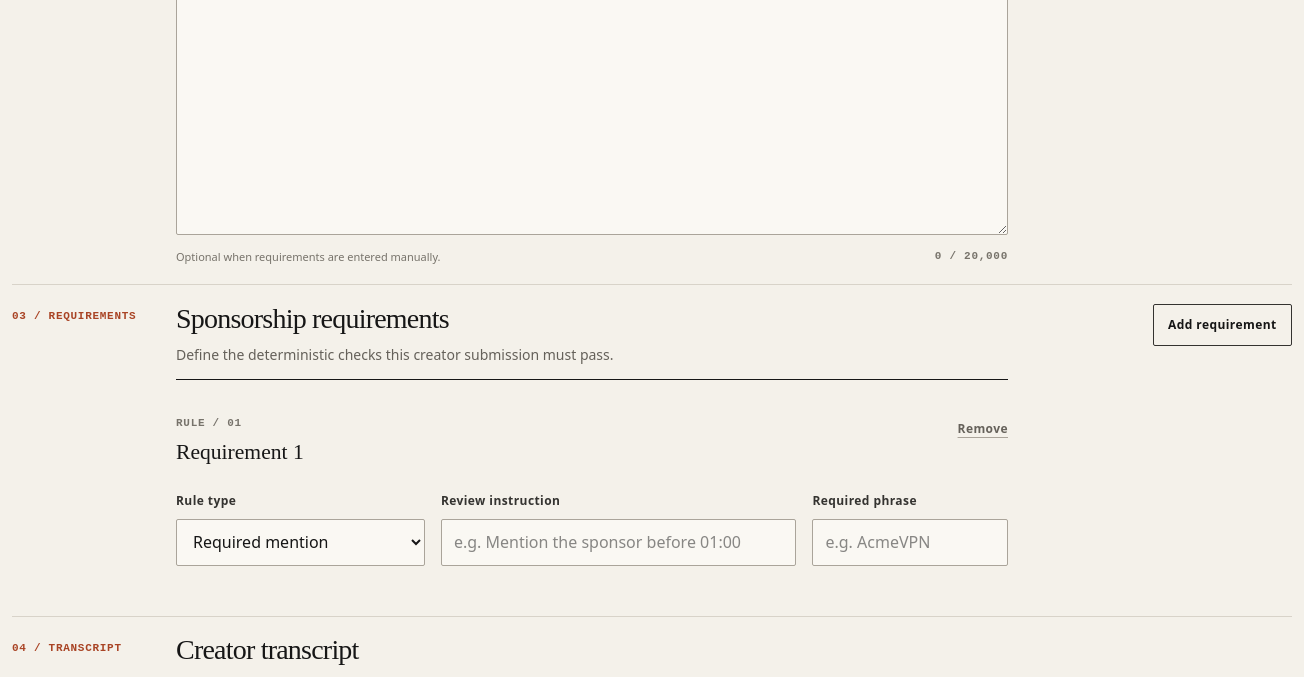
Scenario: requirements workspace › adds requirements
The image size is (1304, 677).
(page scrolled)
Step 1. Click the button "Add requirement" → (1222, 325), box [1153,304,1292,346]
(page scrolled)
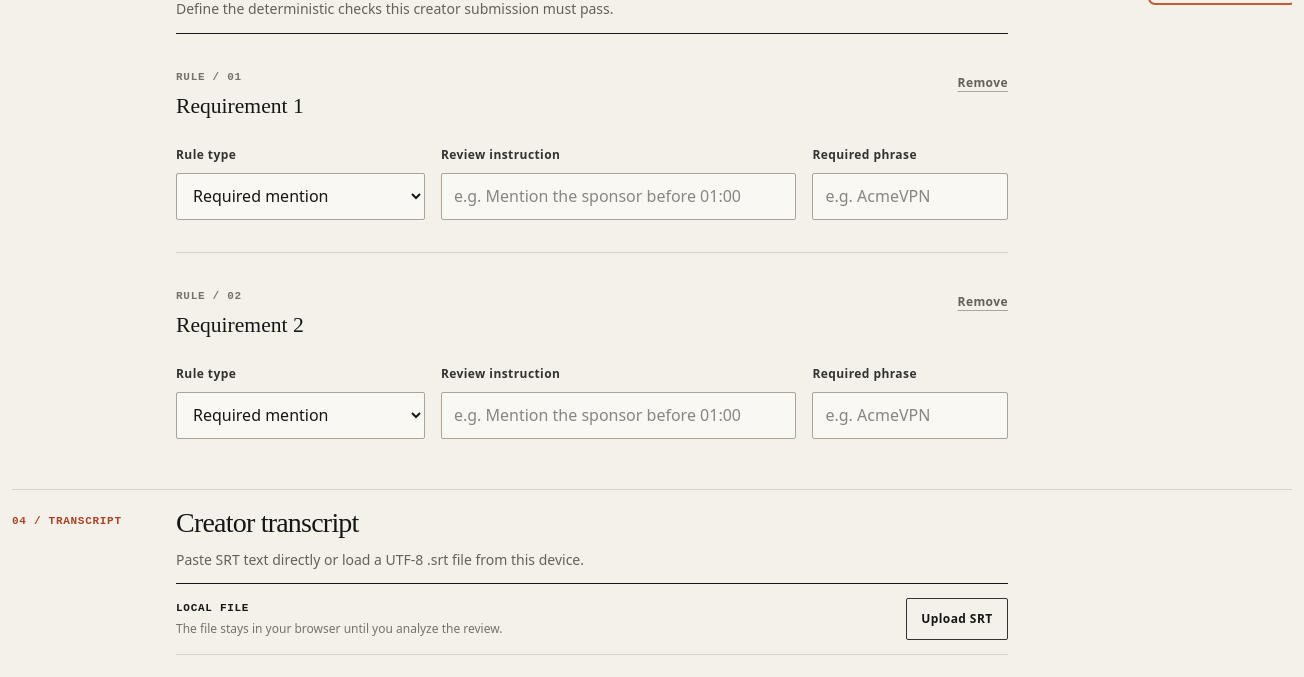
expect the heading "Requirement 1" is shown: met, box [176,90,304,122]
expect the heading "Requirement 2" is shown: met, box [176,309,304,341]
